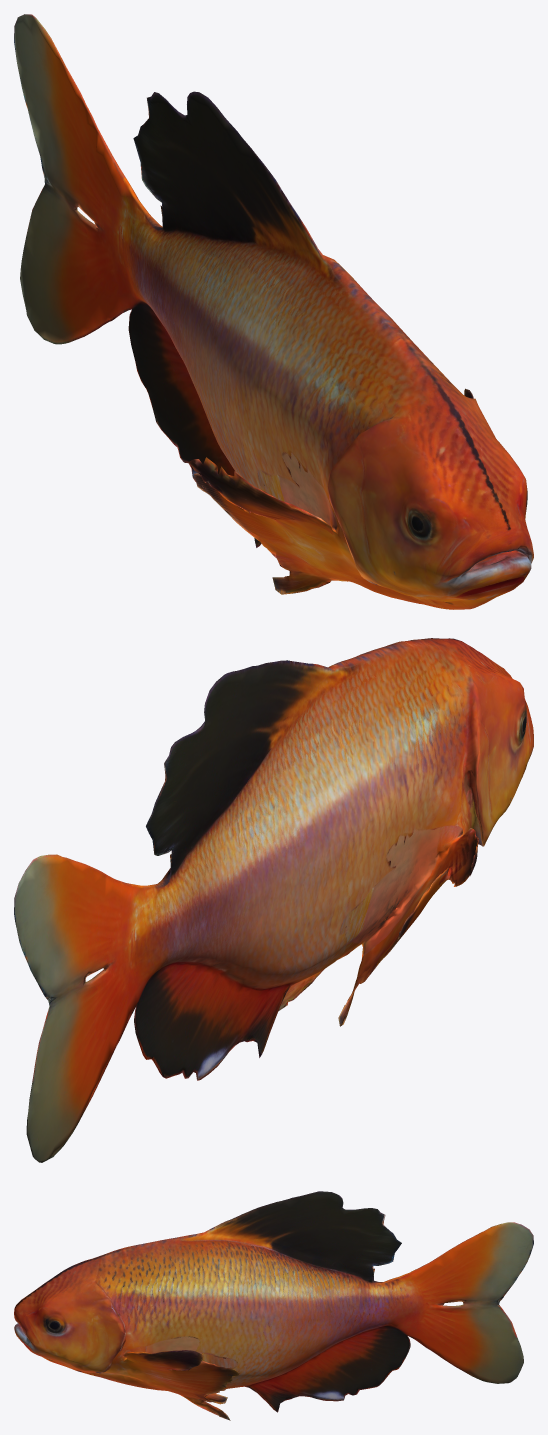
File: serpae_tetra_0604065646_texture.glb
3 views of the same model, one above another, from view 1: azimuth 30°, elevation 25°; view 2: azimuth 150°, elevation 25°; view 3: azimuth 270°, elevation 25° (orthographic). The views are drawn at different scales.
Bounding box in the file's own units: 0.6419 × 0.9292 × 1.99.
Materials: 1 (1 with a texture image).
